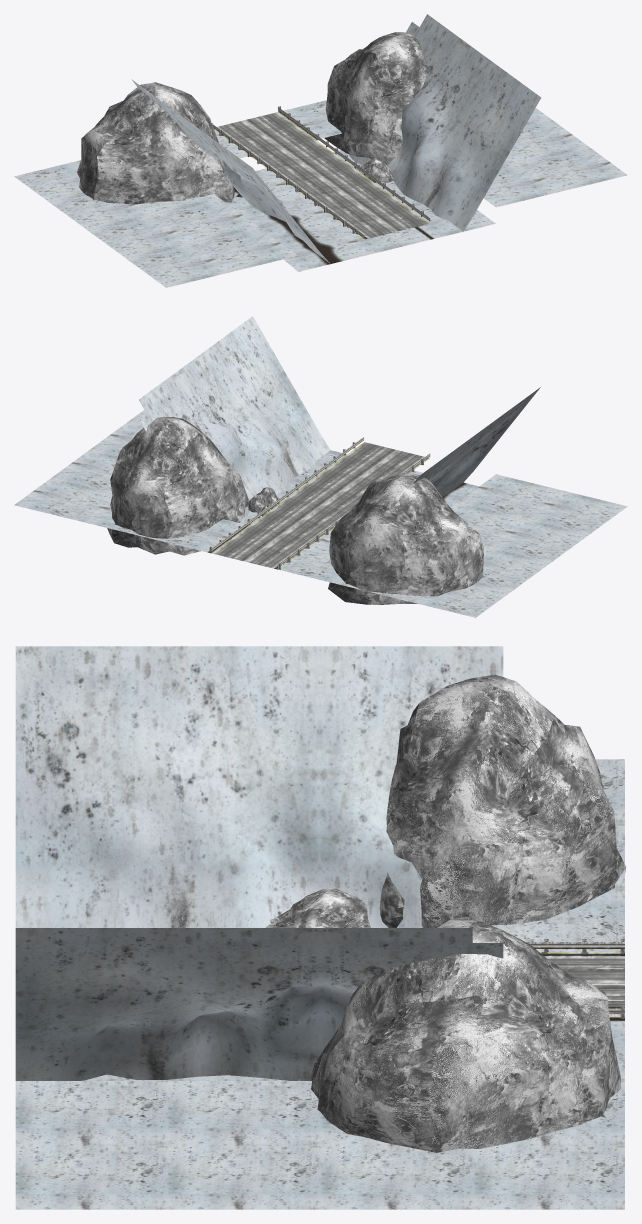
Rendered from scene6_start.FBX.
3 views of the same model, one above another, from view 1: azimuth 30°, elevation 25°; view 2: azimuth 150°, elevation 25°; view 3: azimuth 270°, elevation 25° (orthographic). The views are drawn at different scales.
Parts seen in each view (by area): view 1: wall001, scene007, road015, scene6_start; view 2: wall001, scene007, road015, scene6_start; view 3: wall001, scene007, road015.
Part boxes in pixels (x1,y1,x2,y2): wall001: (77,14,541,263); scene007: (14,100,627,287); road015: (212,106,430,239); scene6_start: (225,150,495,271); wall001: (107,316,540,604); scene007: (14,410,627,617); road015: (209,437,430,569); scene6_start: (242,450,478,544); wall001: (15,646,626,1152); scene007: (15,759,624,1209); road015: (526,938,624,1018).
Bounding box in the file's own units: 140 × 36.38 × 80.16.
